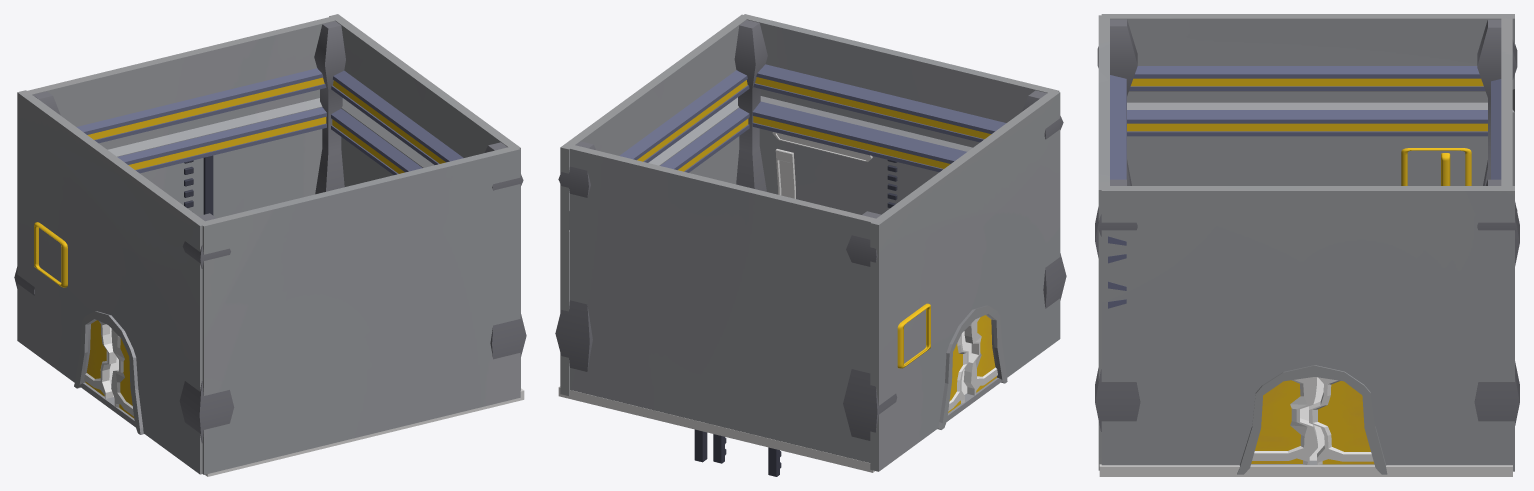
Rendered from lab.fbx.
3 renders of one model, left to right at view 1: azimuth 30°, elevation 25°; view 2: azimuth 150°, elevation 25°; view 3: azimuth 270°, elevation 25°, orthographic. The views are drawn at different scales.
Visible parts, largest first — view 1: polySurface16, polySurface14, polySurface13, polySurface12, polySurface15, pCube55, pCube6, polySurface17, pCube61, pCube52, pCube46; view 2: polySurface13, polySurface14, polySurface16, polySurface12, polySurface15, pCube55, polySurface17, pCube61, pCube6, pCube53, pCube52, pCube51; view 3: polySurface15, polySurface14, polySurface12, pCube55, polySurface17, pCube63, pCube62, polySurface16, polySurface13, pCube52.
Part boxes in pixels (x1=…): polySurface16: x1=202, y1=145, x2=520, y2=474; polySurface14: x1=17, y1=90, x2=208, y2=474; polySurface13: x1=21, y1=15, x2=341, y2=218; polySurface12: x1=76, y1=68, x2=463, y2=174; polySurface15: x1=329, y1=14, x2=520, y2=390; pCube55: x1=14, y1=21, x2=526, y2=443; pCube6: x1=84, y1=320, x2=116, y2=398; polySurface17: x1=109, y1=327, x2=524, y2=476; pCube61: x1=111, y1=329, x2=134, y2=418; pCube52: x1=34, y1=222, x2=67, y2=287; pCube46: x1=203, y1=155, x2=213, y2=215; polySurface13: x1=563, y1=143, x2=881, y2=462; polySurface14: x1=870, y1=91, x2=1060, y2=471; polySurface16: x1=741, y1=14, x2=1059, y2=214; polySurface12: x1=619, y1=64, x2=1006, y2=172; polySurface15: x1=560, y1=14, x2=748, y2=395; pCube55: x1=555, y1=20, x2=1066, y2=440; polySurface17: x1=558, y1=331, x2=971, y2=472; pCube61: x1=963, y1=315, x2=997, y2=395; pCube6: x1=948, y1=333, x2=968, y2=412; pCube53: x1=775, y1=149, x2=795, y2=198; pCube52: x1=897, y1=303, x2=930, y2=368; pCube51: x1=772, y1=132, x2=872, y2=161; polySurface15: x1=1101, y1=186, x2=1514, y2=474; polySurface14: x1=1101, y1=14, x2=1514, y2=185; polySurface12: x1=1108, y1=66, x2=1501, y2=308; pCube55: x1=1095, y1=19, x2=1519, y2=431; polySurface17: x1=1099, y1=377, x2=1512, y2=476; pCube63: x1=1251, y1=377, x2=1317, y2=464; pCube62: x1=1309, y1=377, x2=1374, y2=464; polySurface16: x1=1098, y1=15, x2=1109, y2=470; polySurface13: x1=1501, y1=15, x2=1512, y2=189; pCube52: x1=1401, y1=148, x2=1471, y2=185.
Size of the model in its own units: 207 by 172 by 206.
8 materials, 7 textured.
